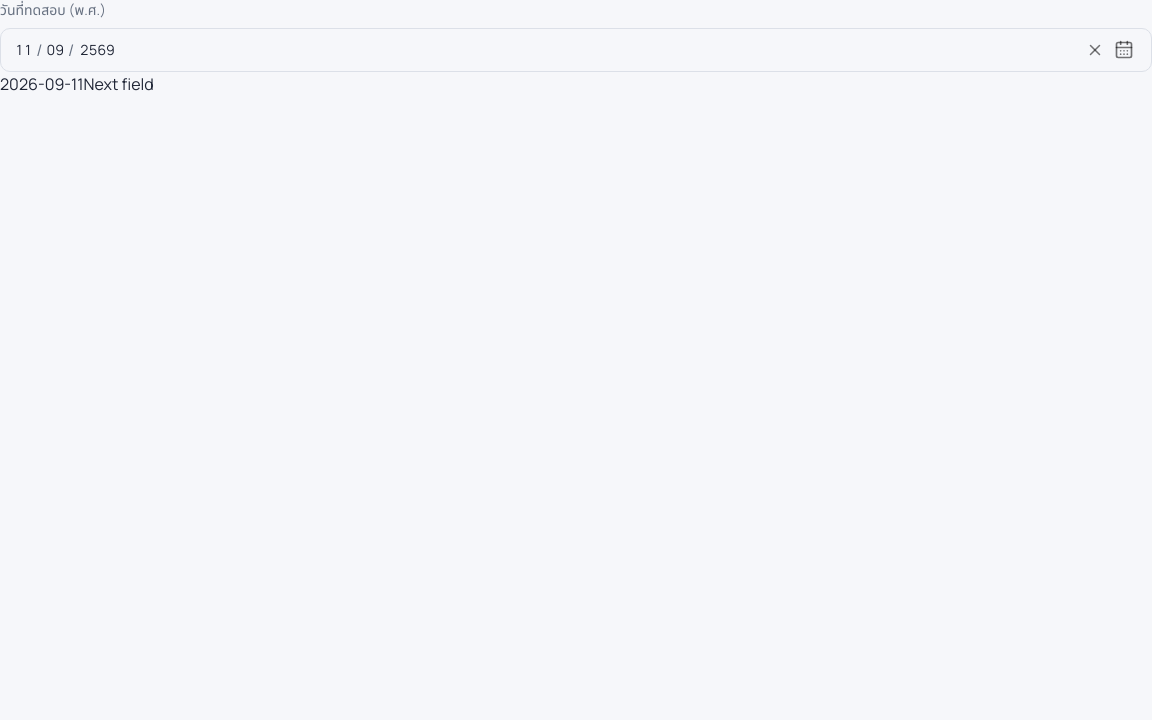
adaptive pickers › discards an unfinished calendar selection on Escape
Click the button named "เปิดวันที่ทดสอบ": (1124, 50) [1109,35,1139,65]
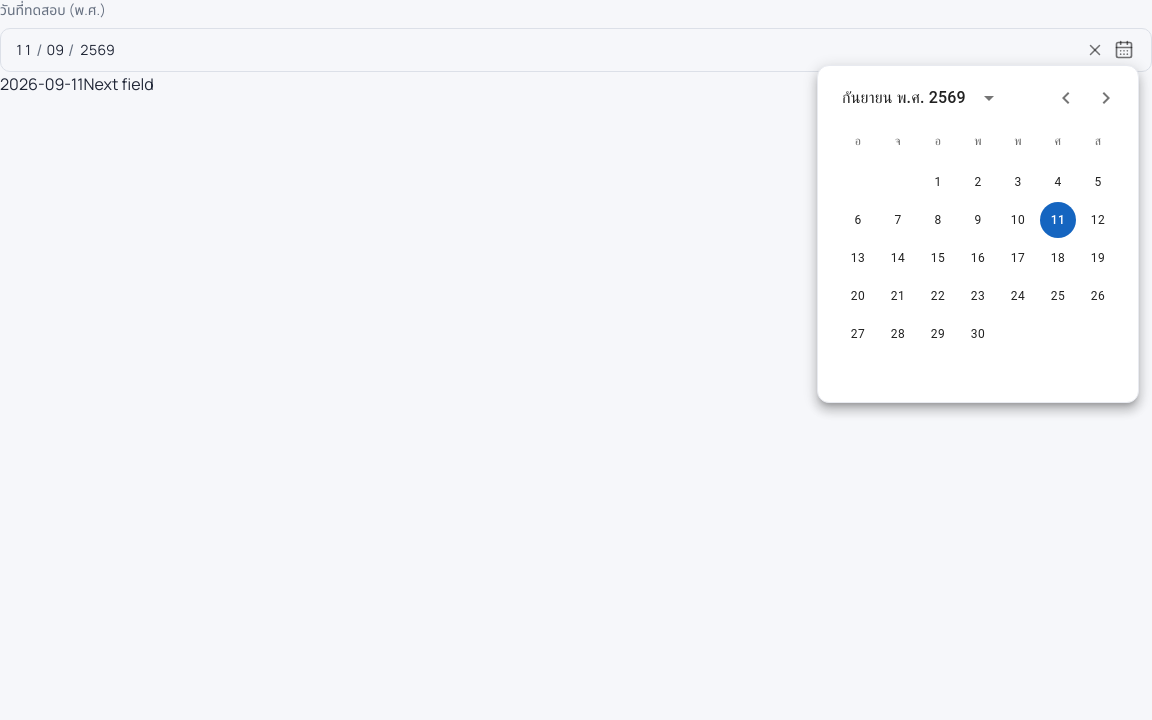
Click the button named "เลือกปี": (989, 98) [972,81,1006,115]
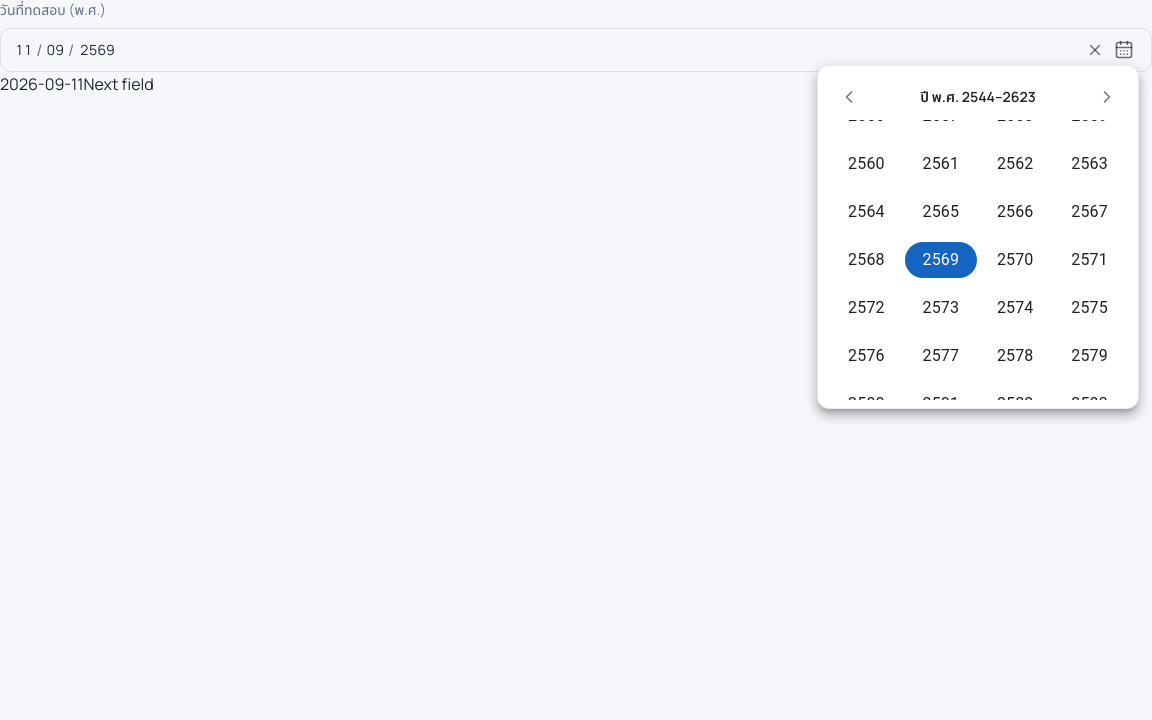
Click the radio button labelled "2570": (1015, 260) [979,242,1051,278]
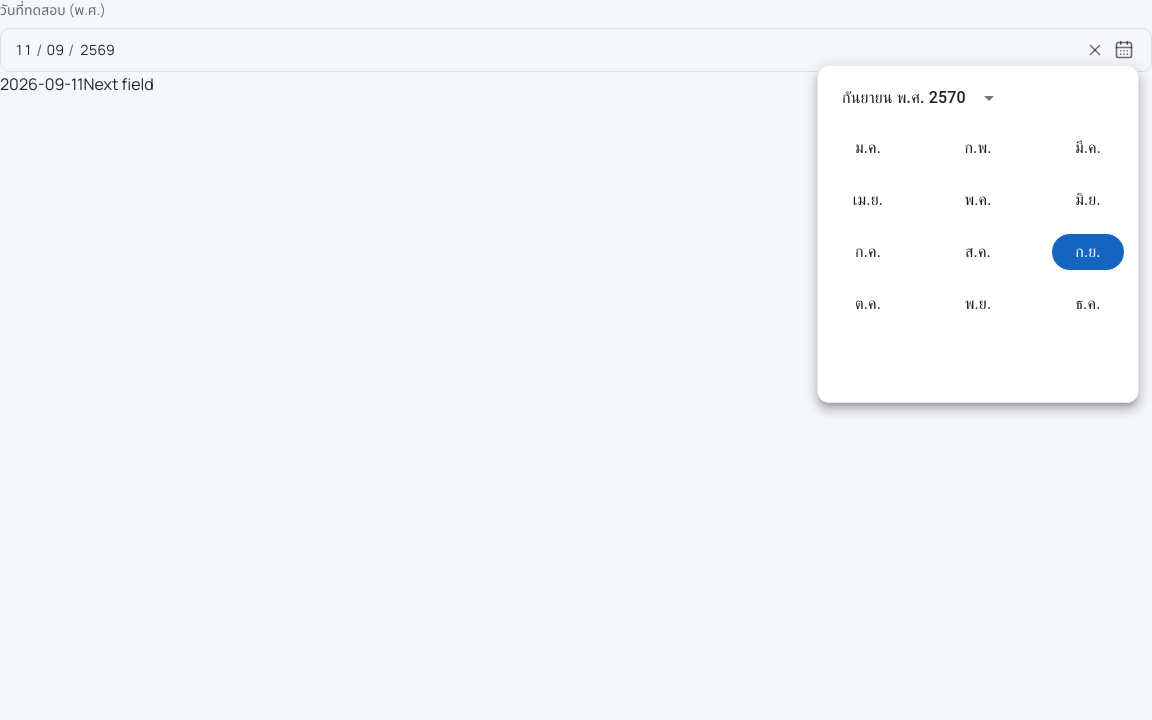
Press Escape
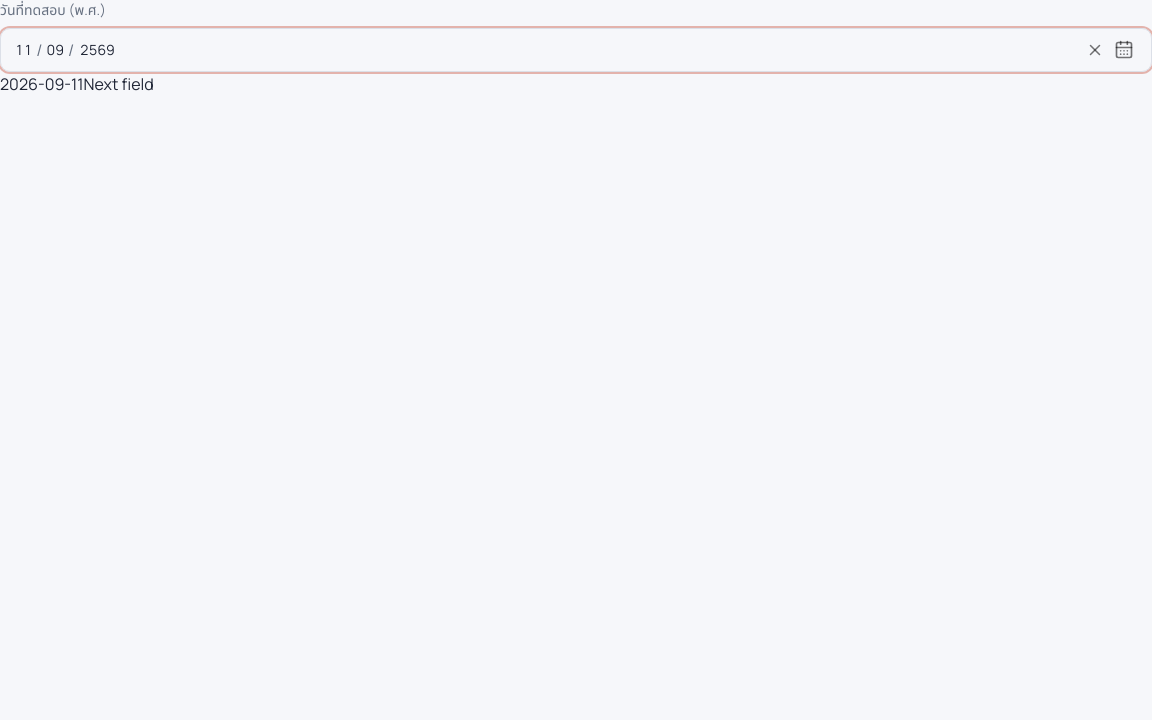
Expected: the number field named "ปี พ.ศ." holds "2569", [76,32,119,68]
Expected: the dialog is gone
